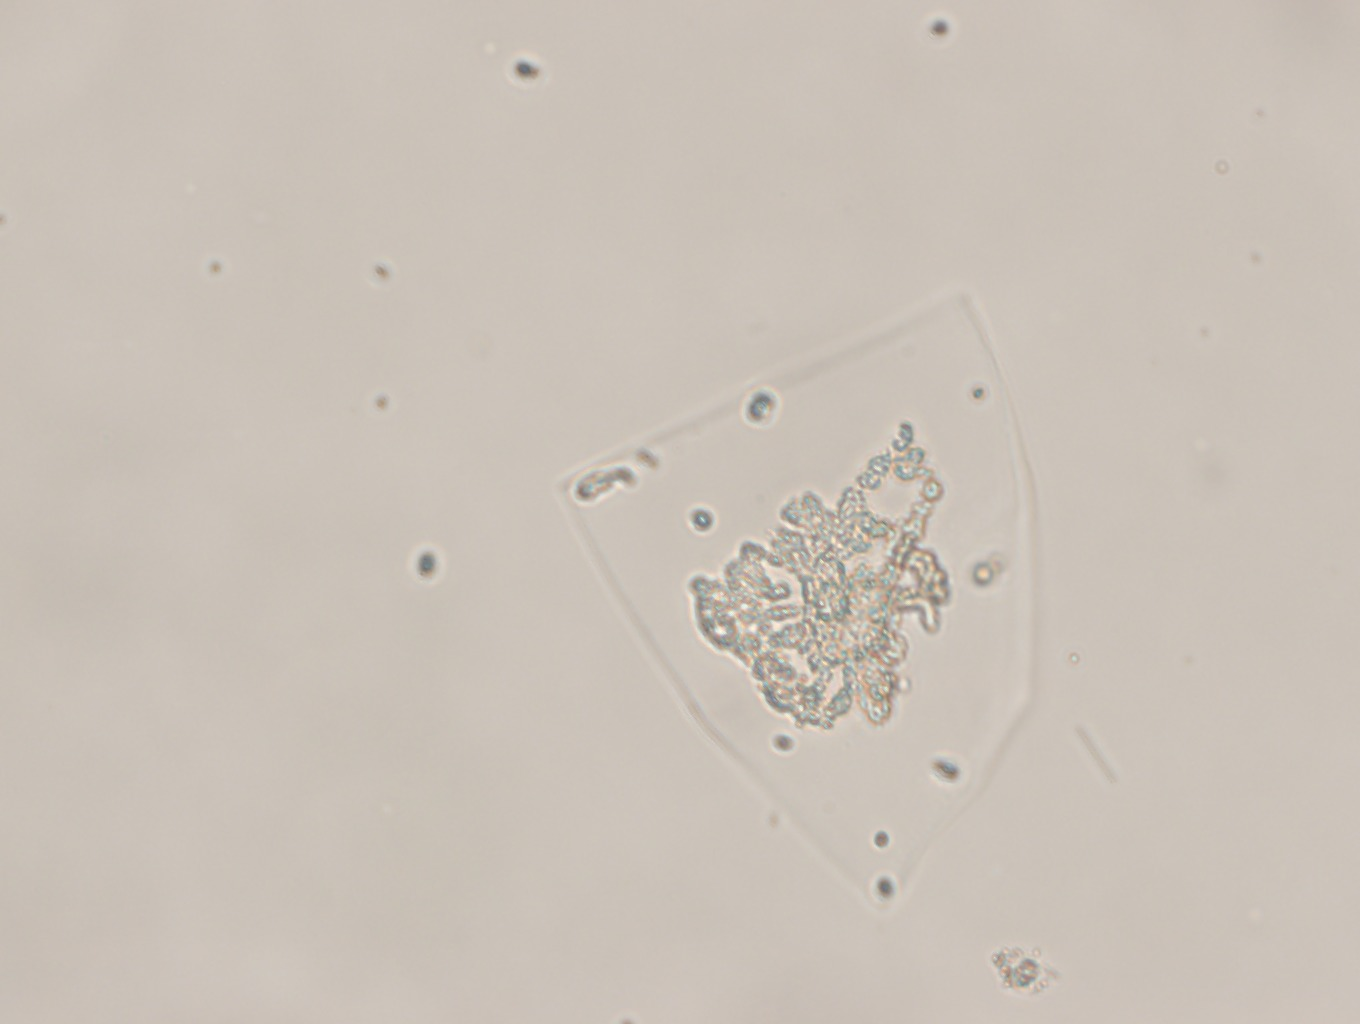helicotheca: (543, 282, 1051, 915)
